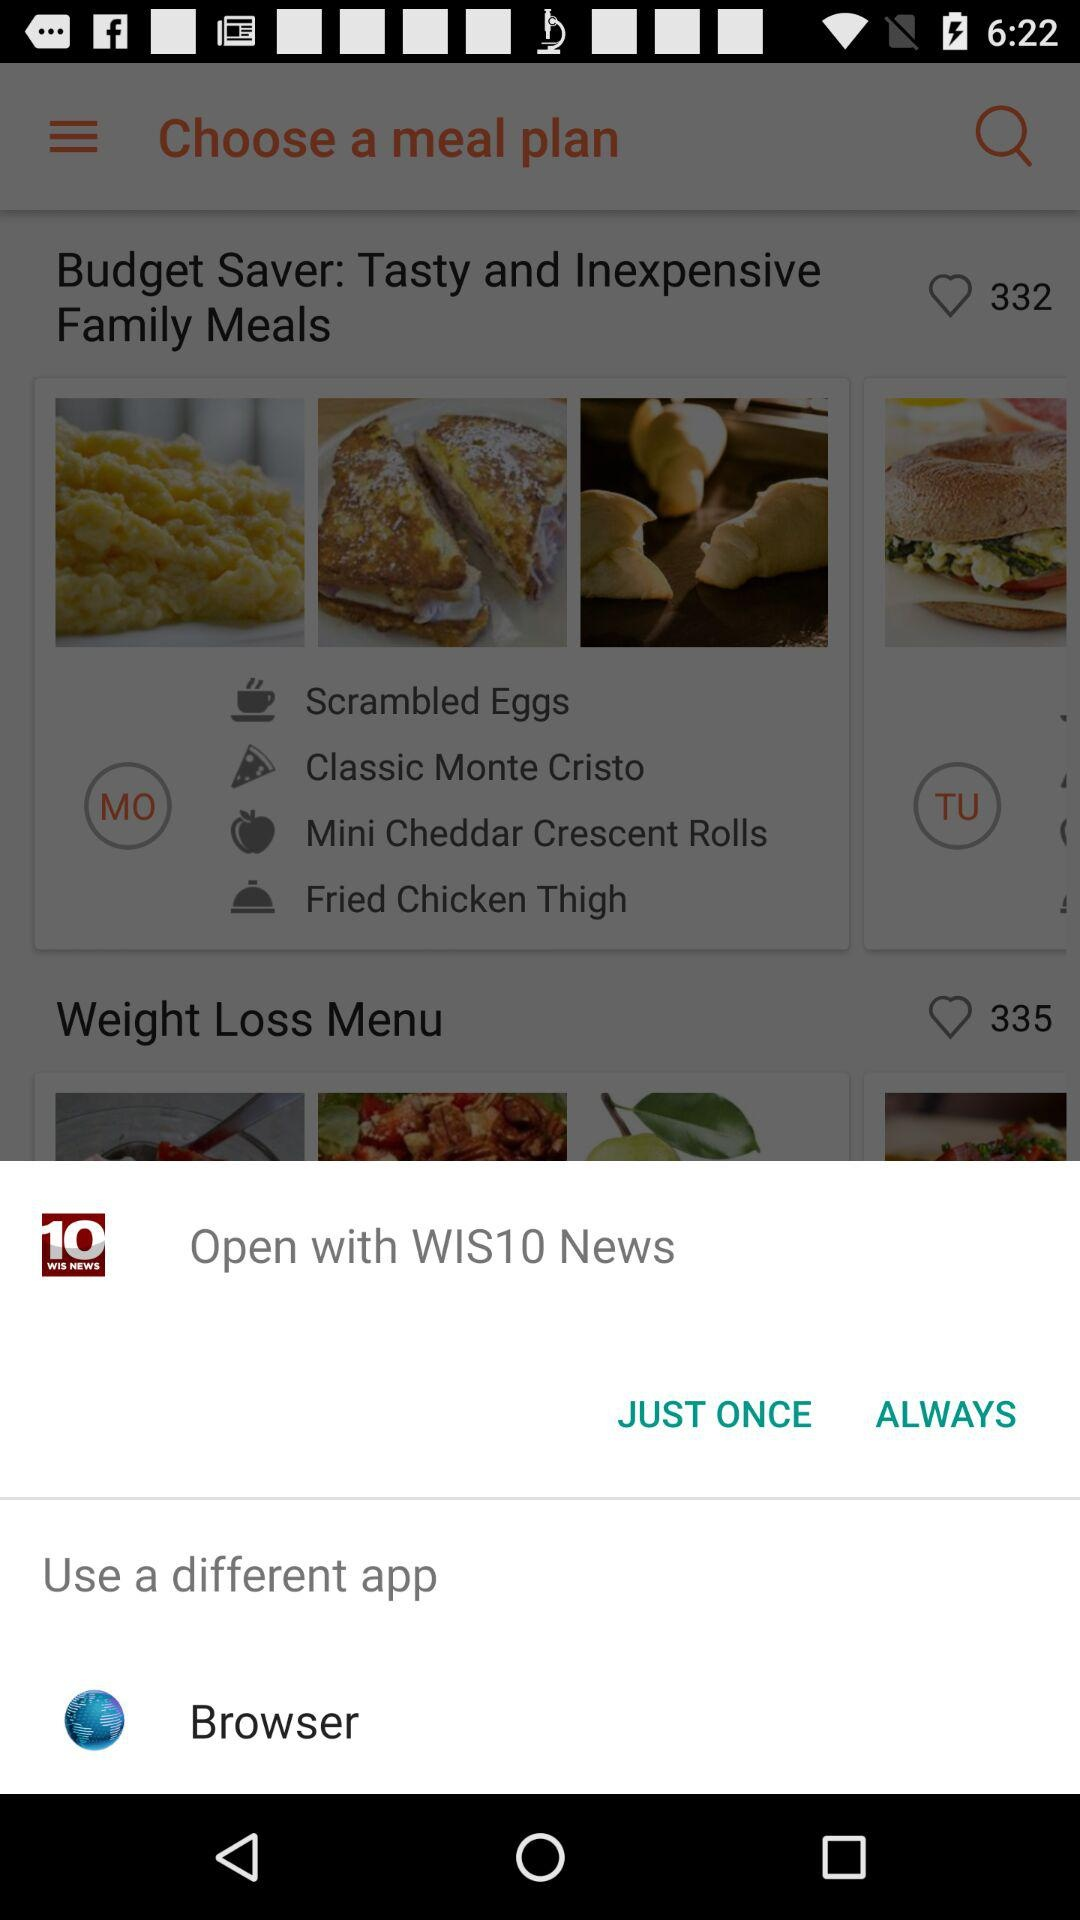Button: (585, 1350, 844, 1476), (844, 1350, 1048, 1476)
ImageView: (42, 1215, 105, 1276)
TextView: (5, 1501, 1075, 1647), (189, 1160, 1075, 1329)
